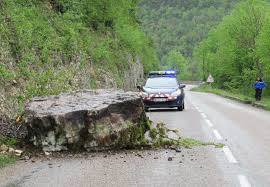car: (139, 68, 191, 122)
obstacle: (23, 85, 187, 155)
person: (250, 75, 268, 107)
